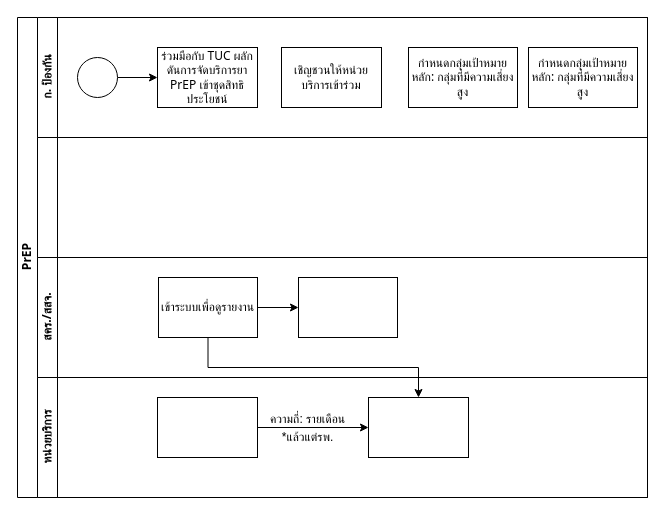
Some shapes in this 665 by 515 pixel diagram are drawn without their labels. The centre of each missing label's shape, as x and y in pixels:
NAP สปสช.: point (342, 197)
คีย์ข้อมูลเข้าระบบ: point (207, 427)
ติดตามสถานการณ์และออกมาตรการ: point (348, 307)
ระบบ prepthai.net: point (418, 427)
